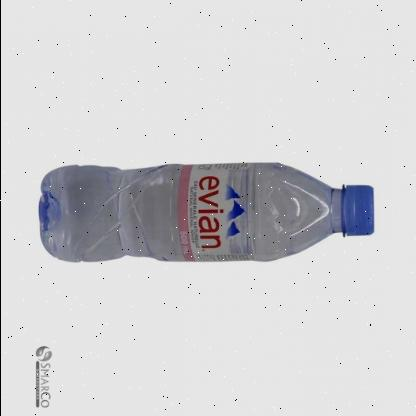Plastic Bottle: (38, 161, 374, 262)
